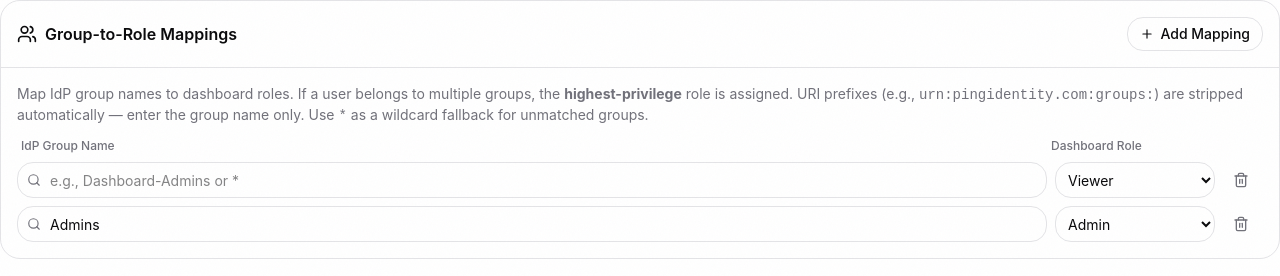
Scenario: GroupRoleMappingEditor › GroupNameAutocomplete › commits a suggestion on mouse click
Focus the dropdown with test id "mapping-group-0" at (532, 180), box 17,162 -> 1047,198
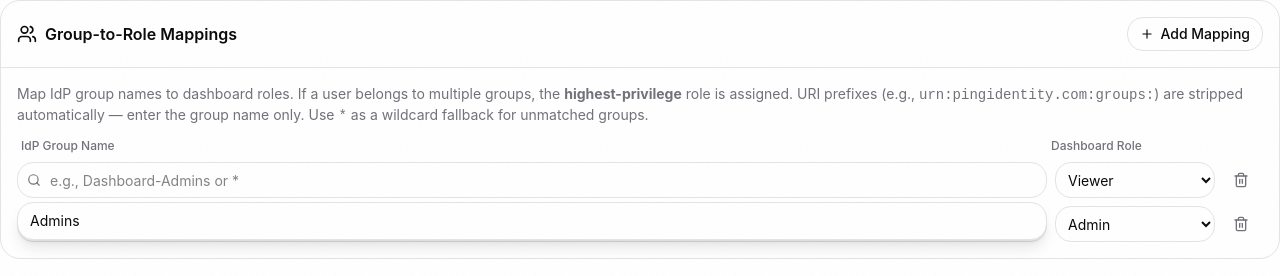
Press the mouse on the option "Admins" at (55, 220), box 30,212 -> 80,229
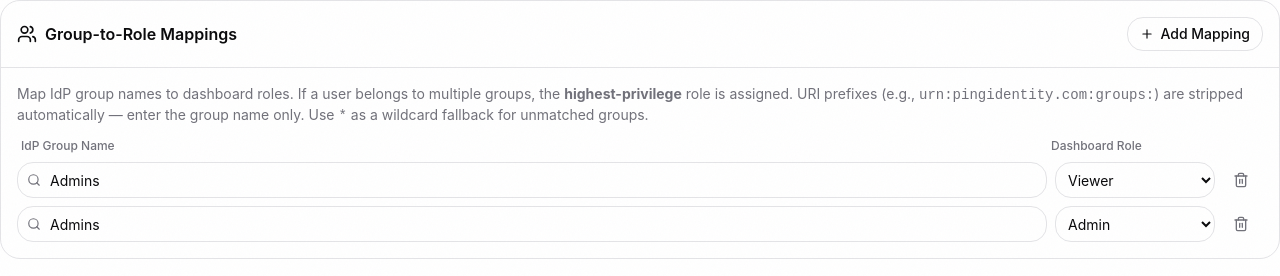
Expected: the dropdown with test id "mapping-group-0" holds "Admins", 17,162 -> 1047,198
Expected: the list is gone
